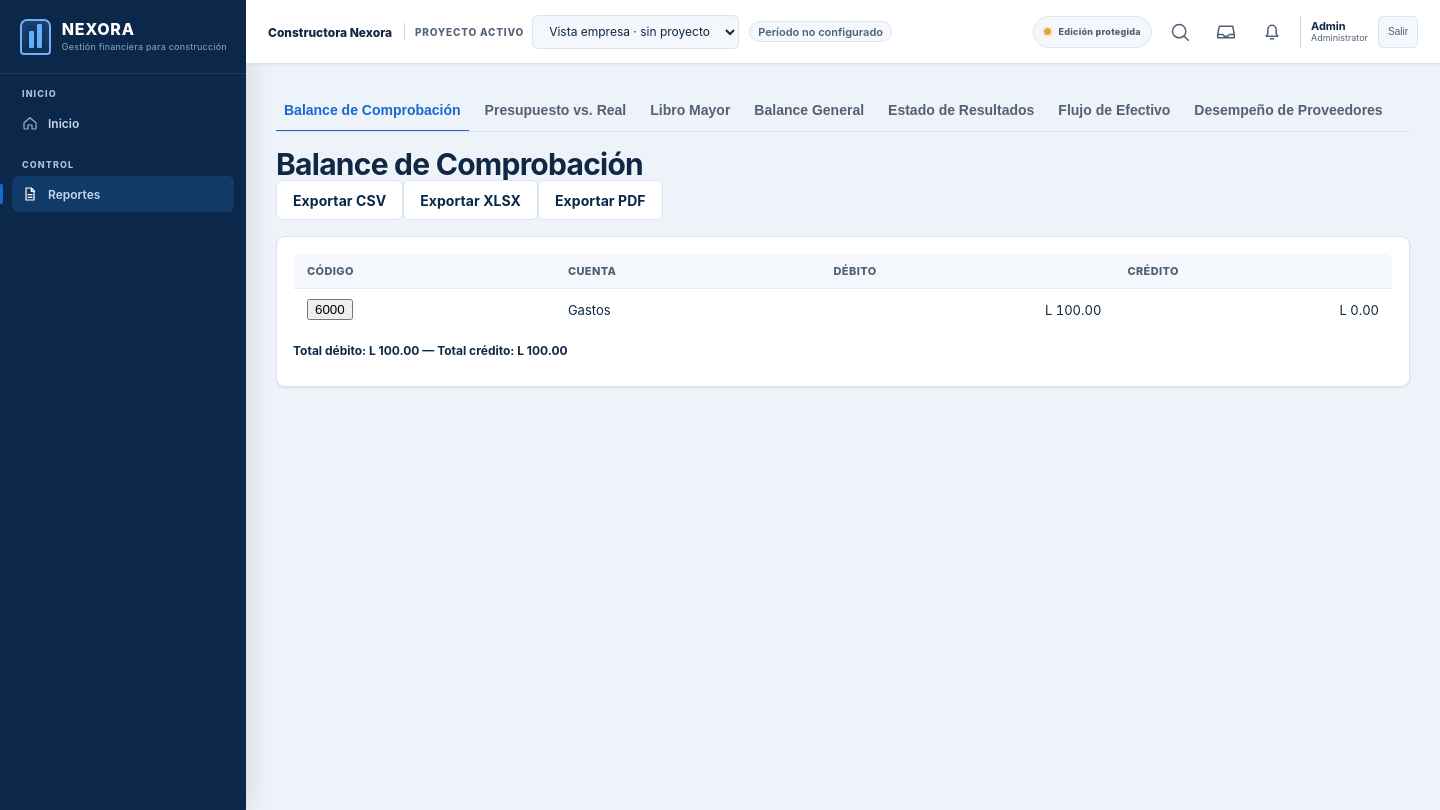
Test case: Financial Reporting Center — drill-down › drills from a trial-balance account to the general ledger filtered by that account, then to the inspector
The width and height of the screenshot is (1440, 810).
Expected: the text "Gastos" is shown, [555,289,820,331]
Click the button "6000".
click(330, 310)  # box [307,299,353,320]
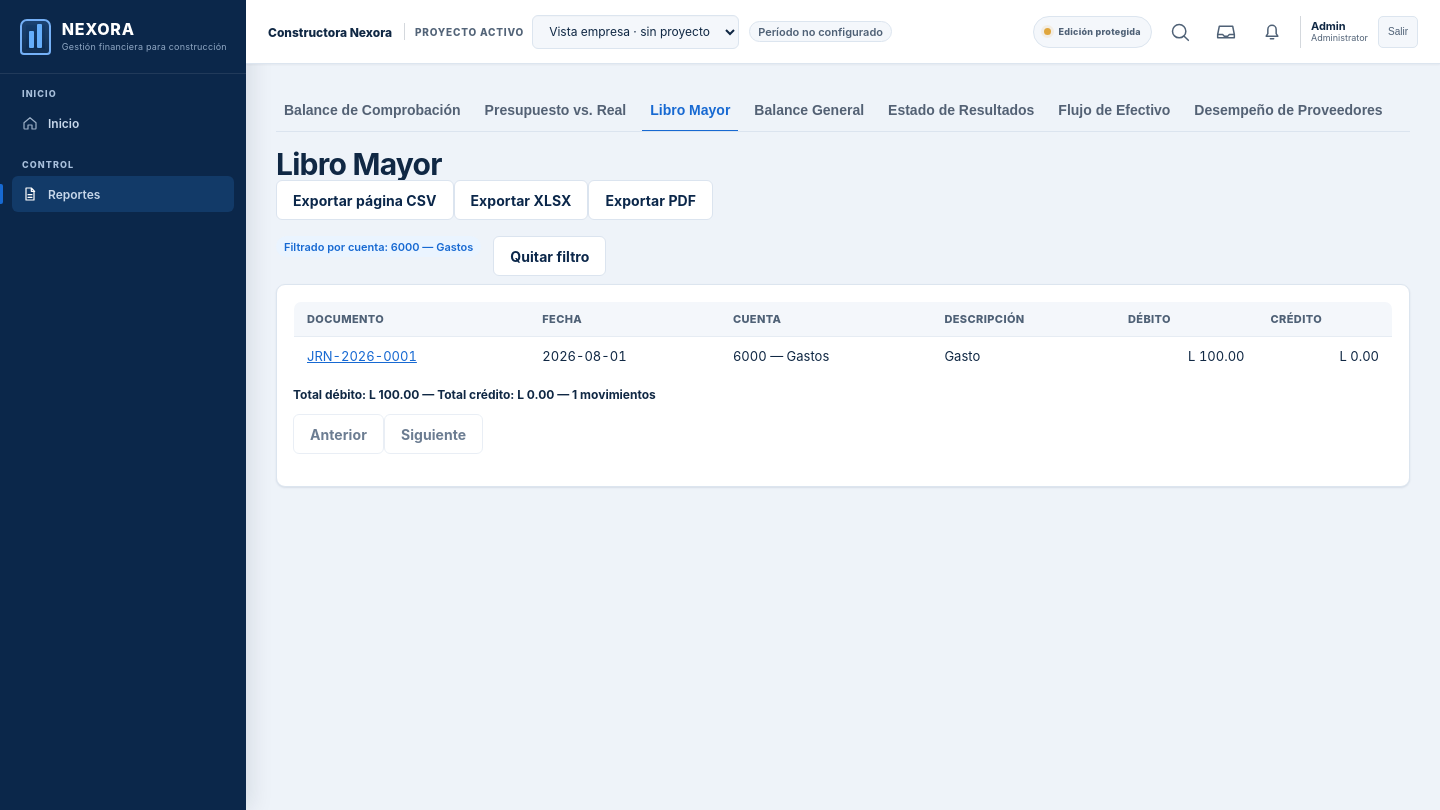
Result: the text "Filtrado por cuenta: 6000 — Gastos" is shown at [276,236,481,257]
